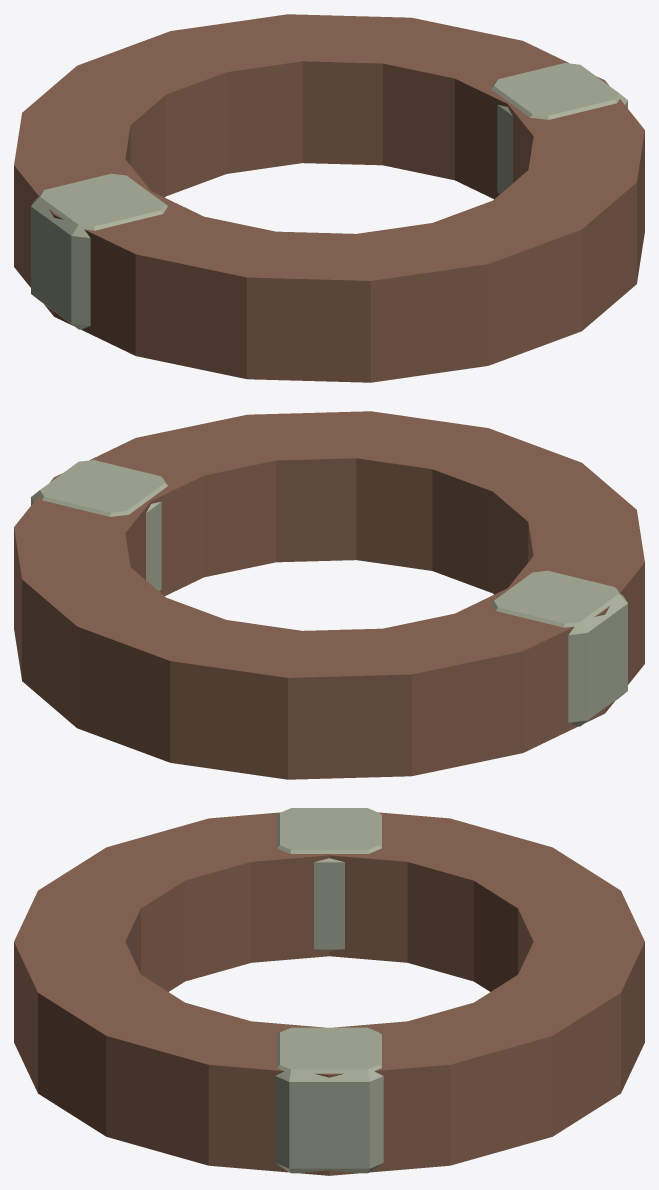
The model's file is life-ring.glb.
The picture shows the model from 3 angles, top to bottom: view 1: azimuth 30°, elevation 25°; view 2: azimuth 150°, elevation 25°; view 3: azimuth 270°, elevation 25°; orthographic projection.
Visible parts, largest first — view 1: life-ring__body; view 2: life-ring__body; view 3: life-ring__body.
Boxes of the visible parts, x1,y1,x2,y2 form: life-ring__body: (14, 14, 644, 382); life-ring__body: (14, 411, 644, 779); life-ring__body: (14, 808, 644, 1175).
Size of the model in its own units: 1.03 by 0.185 by 1.02.
